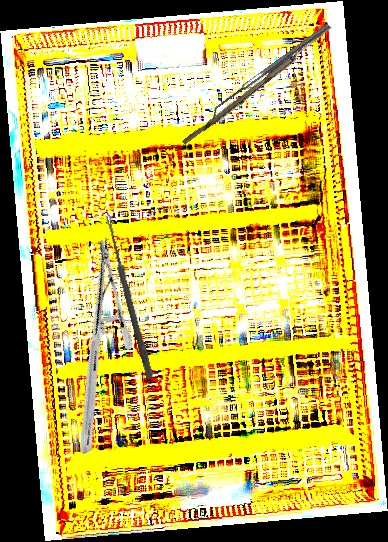Needle Holder: (5, 237, 185, 455)
Spatula Surgical: (206, 23, 335, 120)
Surgical Spoon: (182, 22, 334, 149), (103, 214, 155, 380)
